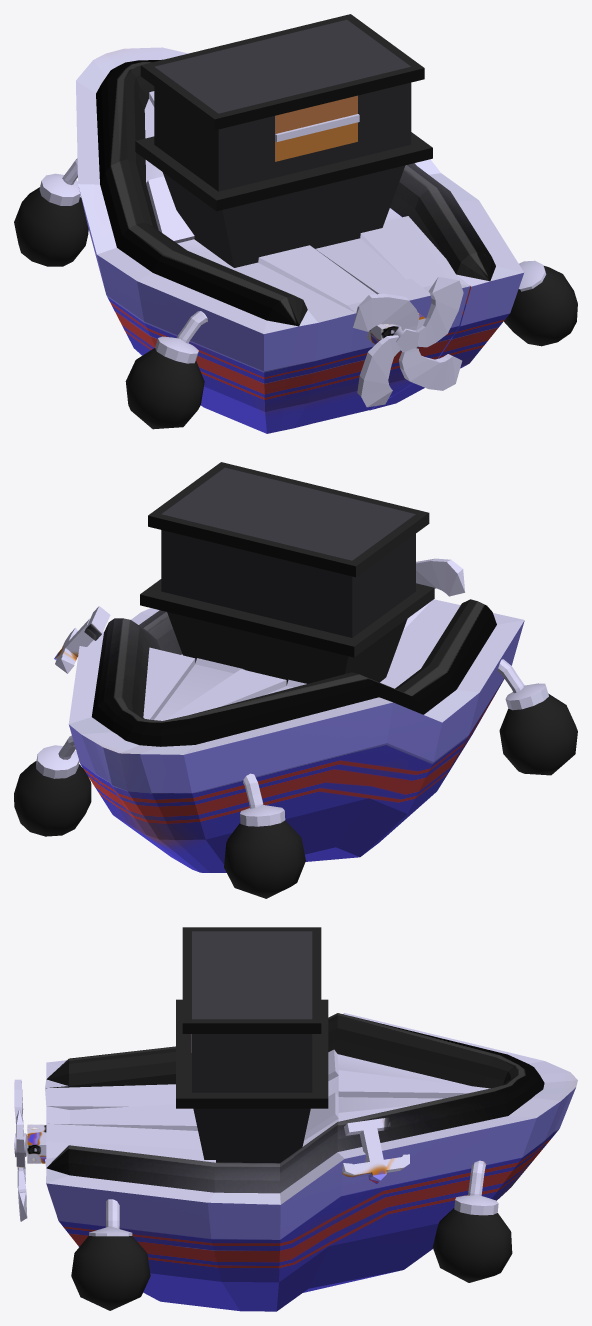
The model's file is new boat.FBX.
The picture shows the model from 3 angles, top to bottom: view 1: azimuth 30°, elevation 25°; view 2: azimuth 150°, elevation 25°; view 3: azimuth 270°, elevation 25°; orthographic projection. The views are drawn at different scales.
Parts seen in each view (by area): view 1: Plane001, Box002, Box009, Sphere004, Sphere013, Sphere001; view 2: Plane001, Box002, Sphere013, Sphere004, Sphere014, Box009, Box010; view 3: Plane001, Box002, Sphere014, Sphere001, Box010, Box009, Box007.
Boxes of the visible parts, bbox=[...] form: Plane001: bbox=[76, 47, 524, 433]; Box002: bbox=[135, 14, 432, 267]; Box009: bbox=[353, 277, 463, 407]; Sphere004: bbox=[125, 311, 207, 429]; Sphere013: bbox=[14, 158, 88, 266]; Sphere001: bbox=[504, 260, 577, 346]; Plane001: bbox=[68, 599, 524, 872]; Box002: bbox=[140, 462, 434, 685]; Sphere013: bbox=[224, 773, 305, 898]; Sphere004: bbox=[497, 659, 577, 775]; Sphere014: bbox=[14, 735, 91, 836]; Box009: bbox=[416, 558, 465, 596]; Box010: bbox=[54, 606, 110, 673]; Plane001: bbox=[45, 1013, 577, 1311]; Box002: bbox=[176, 927, 328, 1163]; Sphere014: bbox=[432, 1160, 512, 1282]; Sphere001: bbox=[71, 1199, 150, 1310]; Box010: bbox=[342, 1117, 409, 1183]; Box009: bbox=[14, 1079, 27, 1221]; Box007: bbox=[27, 1124, 46, 1163].
Size of the model in its own units: 80.9 by 61.29 by 97.83.
1 material, 1 textured.
